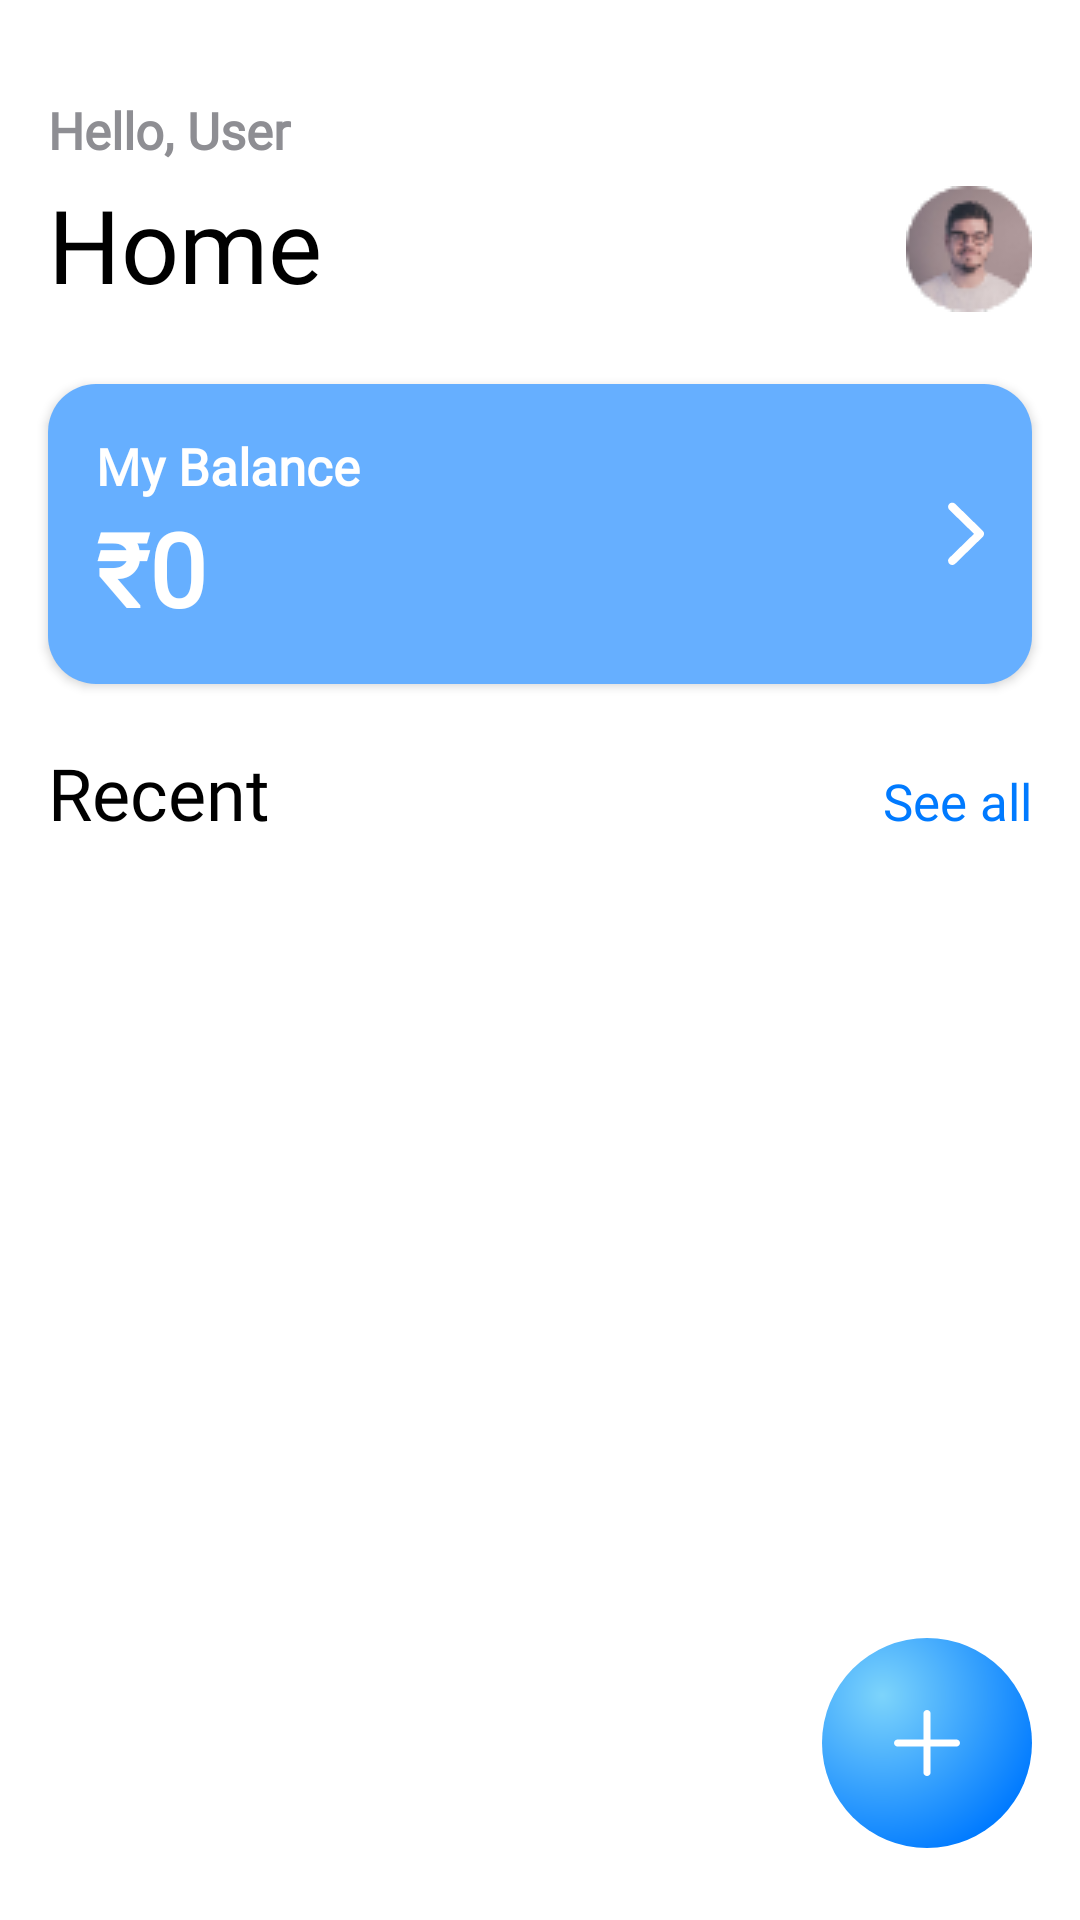

Named icons in this screenshot (1080 × 1920) and their centers, (x=x, y=y):
plus: (x=927, y=1743)
user pic: (x=969, y=249)
